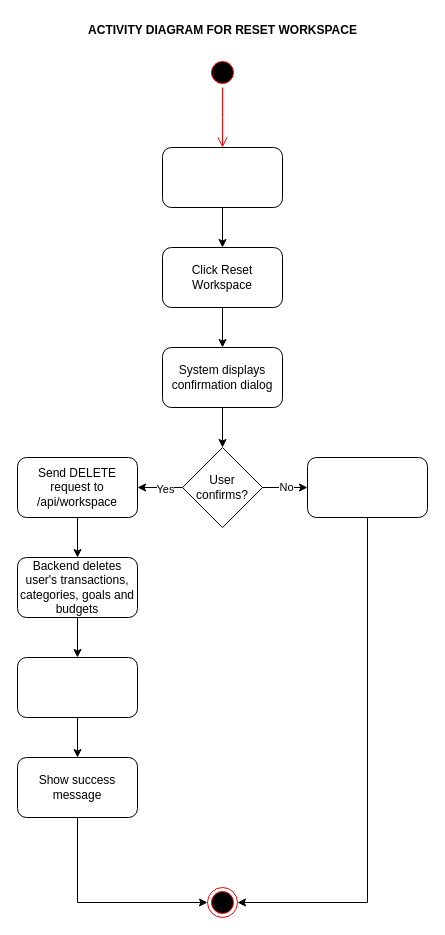
This 445x935 diagram has some shape labels left out. The centre of each missing label's shape, as x and y in pixels:
Cancel action: the point at 367,487
Frontend clears workspace state: the point at 77,687
Open Setup page: the point at 222,177
